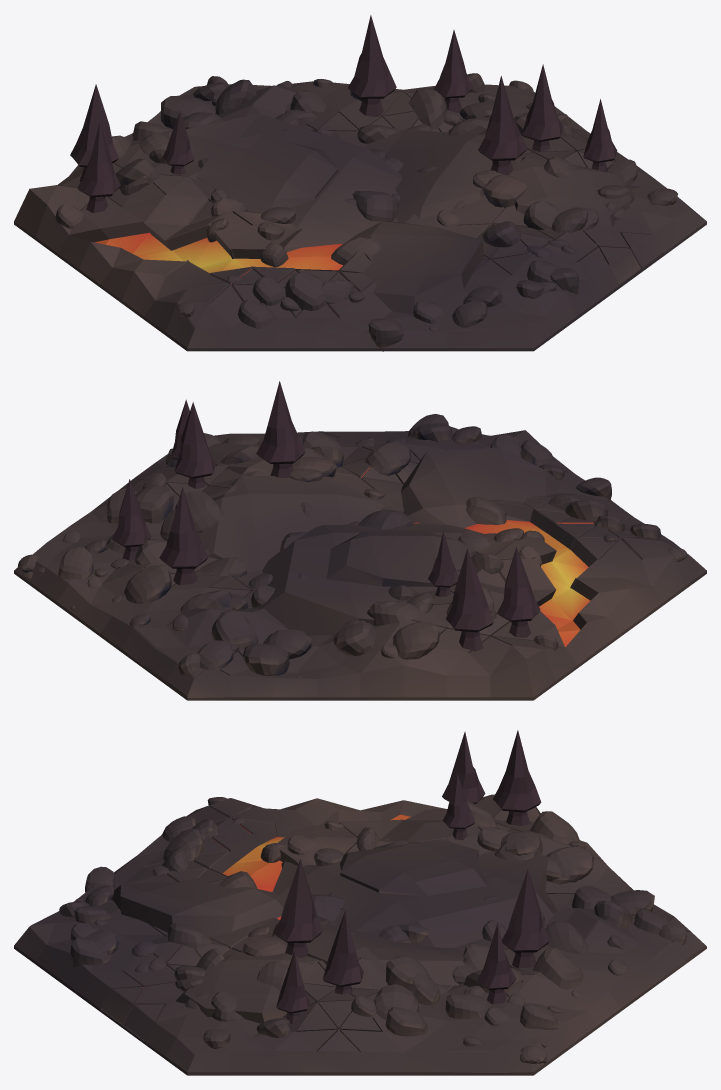
File: scorched.glb
The picture shows the model from 3 angles, top to bottom: view 1: azimuth 30°, elevation 25°; view 2: azimuth 150°, elevation 25°; view 3: azimuth 270°, elevation 25°; orthographic projection.
Parts seen in each view (by area): view 1: scorched; view 2: scorched; view 3: scorched.
Boxes of the visible parts, box(x1,y1,x2,y2) form: scorched: box(14, 15, 706, 351); scorched: box(14, 381, 706, 700); scorched: box(14, 730, 706, 1075).
Bounding box in the file's own units: 1.73 × 0.5255 × 2.
